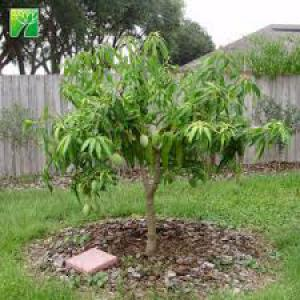Tree: (25, 28, 288, 252)
